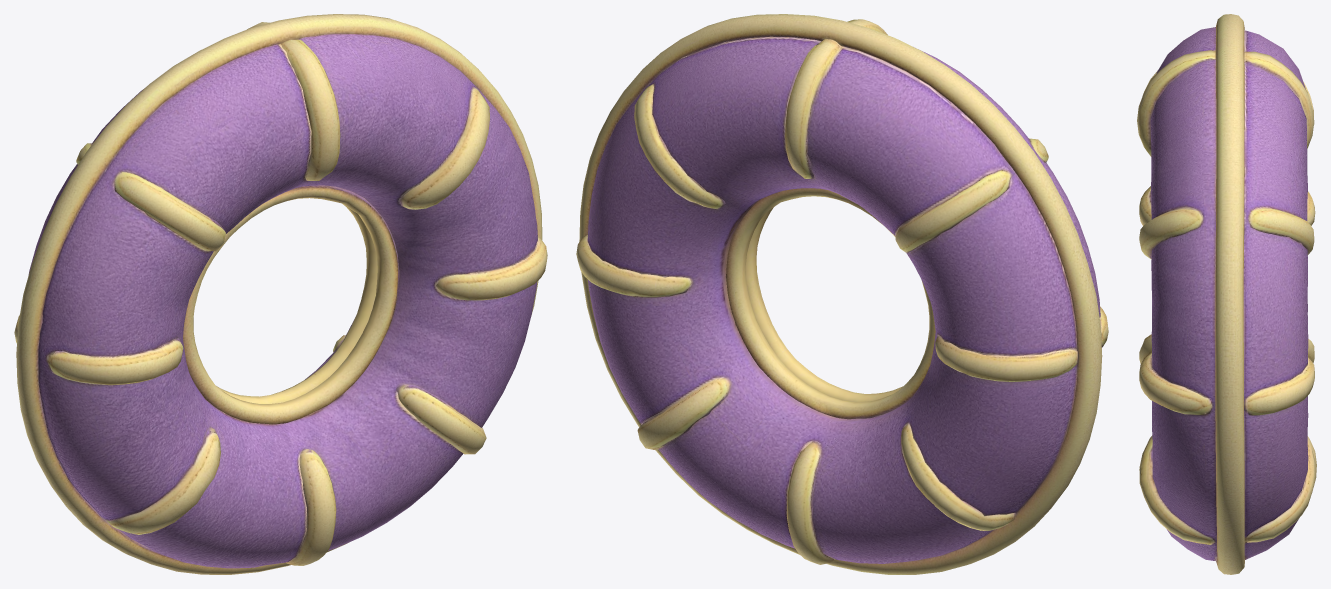
The model's file is Donut.fbx.
The picture shows the model from 3 angles, left to right: view 1: azimuth 30°, elevation 25°; view 2: azimuth 150°, elevation 25°; view 3: azimuth 270°, elevation 25°; orthographic projection. The views are drawn at different scales.
Parts seen in each view (by area): view 1: tripo_node_18fd41cb; view 2: tripo_node_18fd41cb; view 3: tripo_node_18fd41cb.
Part boxes in pixels (left/top/right/bottom): tripo_node_18fd41cb: left=14, top=14, right=547, bottom=574; tripo_node_18fd41cb: left=576, top=14, right=1108, bottom=574; tripo_node_18fd41cb: left=1137, top=14, right=1316, bottom=574.
Bounding box in the file's own units: 0.9995 × 0.9985 × 0.3228.
